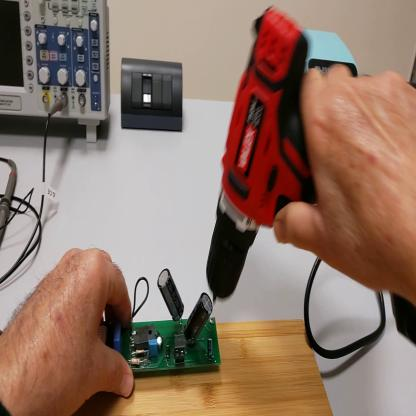electric screwdriver: (205, 6, 416, 337)
hand: (274, 62, 415, 299), (2, 246, 134, 416)
high voltage board: (95, 266, 220, 375)
oscilloscope: (1, 2, 113, 141)
oscilloscope probe tip: (2, 162, 19, 241)
working area: (73, 320, 333, 416)
